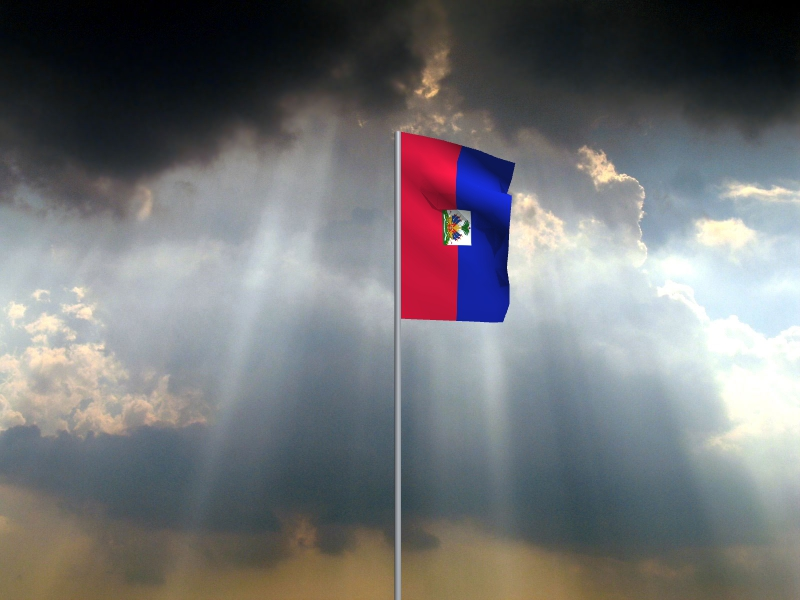ht: (402, 133, 516, 324)
